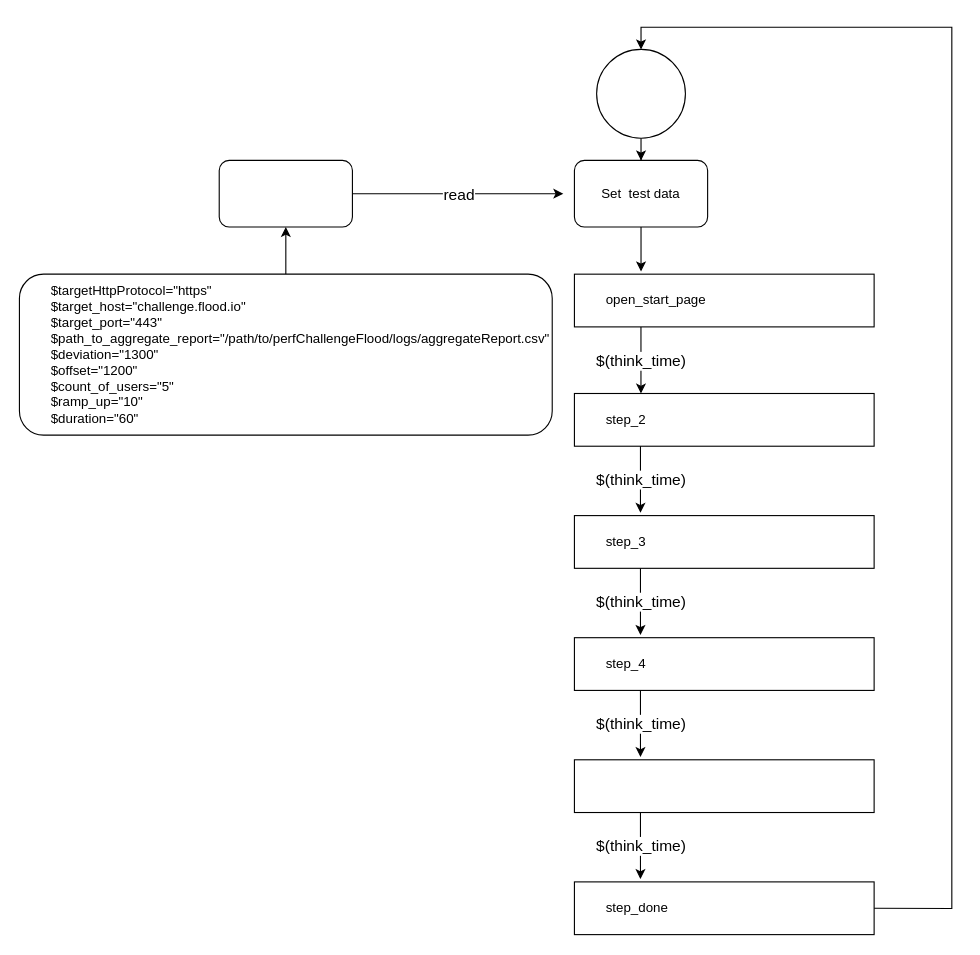
The diagram is 980 pixels wide and 955 high, and some of its shapes have lost their labels. The centre of each missing label's shape, as x and y in pixels:
Start Test: (x=640, y=93)
step_5: (x=723, y=786)
Test Data: (x=285, y=193)
